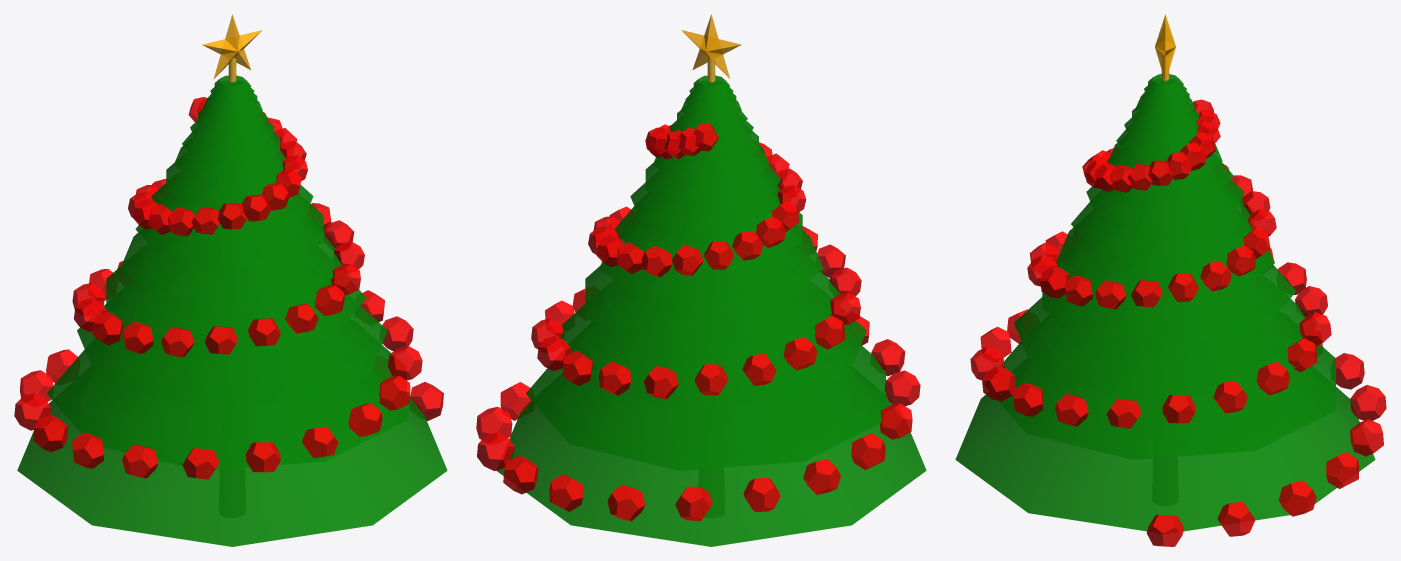
File: fractaltreea.glb
The picture shows the model from 3 angles, left to right: view 1: azimuth 30°, elevation 25°; view 2: azimuth 150°, elevation 25°; view 3: azimuth 270°, elevation 25°; orthographic projection. The views are drawn at different scales.
Bounding box in the file's own units: 10.02 × 12.07 × 9.7.
